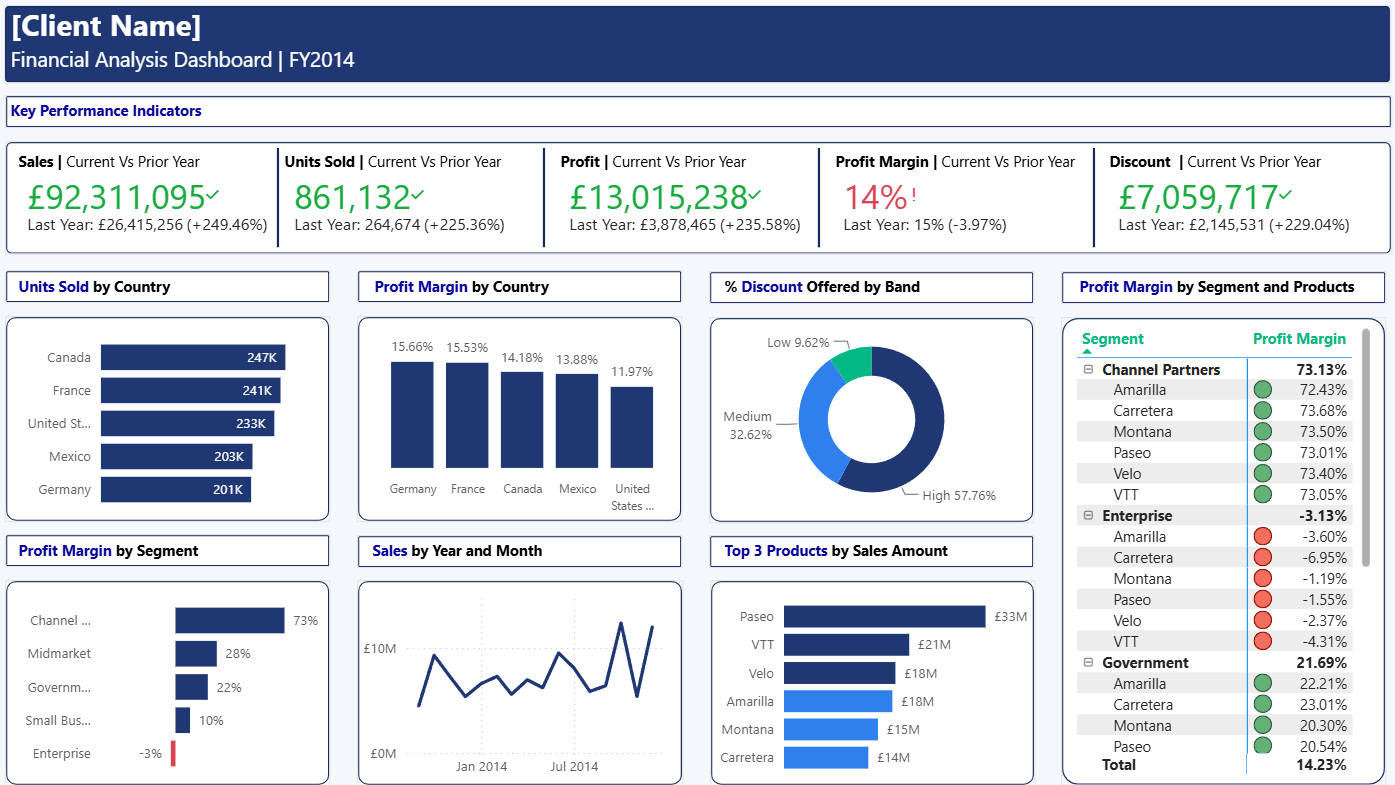

The dashboard page shown, as its layout file describes it:
{"tool":"powerbi","page":{"name":"Page 1","canvas":[1280,720],"ordinal":0},"visuals":[{"type":"shape","box":[9.7,11.7,1257.6,71],"z":0},{"type":"shape","box":[10.7,93.4,1257.6,30.2],"z":1000},{"type":"shape","box":[10.7,135.2,1257.6,103.1],"z":2000},{"type":"shape","box":[10.8,251.9,295,30.2],"z":3000},{"type":"shape","box":[10.8,293.6,295,186.7],"z":4000},{"type":"shape","box":[330.1,252.2,295,30.2],"z":5000},{"type":"shape","box":[330.1,293.8,295,186.7],"z":6000},{"type":"shape","box":[649.6,253.2,295,30.2],"z":7000},{"type":"shape","box":[649.6,294.4,295,186.7],"z":8000},{"type":"shape","box":[10.8,491.9,295,30.2],"z":9000},{"type":"shape","box":[10.8,533.3,295,186.7],"z":10000},{"type":"shape","box":[330.1,491.9,295,30.2],"z":11000},{"type":"shape","box":[329.7,533,295.7,186.7],"z":12000},{"type":"shape","box":[649.6,492.3,295,30.2],"z":13000},{"type":"shape","box":[649.7,533,294.7,186.7],"z":14000},{"type":"shape","box":[968.8,253.2,295,30.2],"z":15000},{"type":"shape","box":[968.8,294.7,294.7,425],"z":16000},{"type":"textbox","box":[10.7,6,299.6,47.7],"z":17000},{"type":"textbox","box":[10.9,42.6,385.4,39],"z":18000},{"type":"textbox","box":[10.7,93.4,299.6,30.2],"z":19000},{"type":"kpi","fields":{"Indicator":["Analysis.Sales Amount"],"TrendLine":["DateTable.Date.Variation.Date Hierarchy.Year"],"Goal":["Analysis.Sales Amount LY"]},"box":[18.1,156,292,76.2],"z":20000},{"type":"textbox","box":[18.5,140.1,299.6,30.2],"z":21000},{"type":"shape","box":[198.4,141,119.6,90.5],"z":22000},{"type":"kpi","fields":{"TrendLine":["DateTable.Date.Variation.Date Hierarchy.Year"],"Indicator":["Analysis.Units Sold"],"Goal":["Analysis.Units Sold LY"]},"box":[260.3,156,299.2,76.2],"z":23000},{"type":"kpi","fields":{"TrendLine":["DateTable.Date.Variation.Date Hierarchy.Year"],"Goal":["Analysis.Profit LY"],"Indicator":["Analysis.Profit"]},"box":[509.6,156,299.2,76.2],"z":24000},{"type":"kpi","fields":{"Indicator":["Analysis.Profit Margin"],"TrendLine":["DateTable.Date.Variation.Date Hierarchy.Year"],"Goal":["Analysis.Profit Margin LY"]},"box":[758.1,156,300.2,76.2],"z":25000},{"type":"kpi","fields":{"Indicator":["Analysis.Total Discount Amount"],"TrendLine":["DateTable.Date.Variation.Date Hierarchy.Year"],"Goal":["Analysis.Total Discount Amount LY"]},"box":[1007.5,156,255.7,76.2],"z":26000},{"type":"shape","box":[439.6,141,119.6,90.5],"z":27000},{"type":"shape","box":[689.6,141,119.6,90.5],"z":28000},{"type":"shape","box":[938.6,141,119.6,90.5],"z":29000},{"type":"textbox","box":[259.7,140.1,299.6,30.2],"z":30000},{"type":"textbox","box":[509.7,140.1,299.6,30.2],"z":31000},{"type":"textbox","box":[758.7,140.1,299.6,30.2],"z":32000},{"type":"textbox","box":[1007.2,139.9,256.8,30],"z":33000},{"type":"textbox","box":[18.1,253,287.5,30.8],"z":34000},{"type":"textbox","box":[340.7,252.8,299.8,31],"z":35000},{"type":"textbox","box":[658.5,252.8,299.8,31],"z":36000},{"type":"barChart","fields":{"Y":["Analysis.Units Sold"],"Category":["Financials.Country"]},"box":[11,294.8,294.8,185.9],"z":37000},{"type":"columnChart","fields":{"Category":["Financials.Country"],"Y":["Analysis.Profit Margin"]},"box":[329.7,294.8,294.8,185.9],"z":38000},{"type":"donutChart","fields":{"Category":["Financials.Discount Band"],"Y":["Analysis.Total Discount Amount"]},"box":[649.5,294.8,294.8,185.9],"z":39000},{"type":"textbox","box":[18,492.6,299.8,31],"z":40000},{"type":"barChart","fields":{"Y":["Analysis.Profit Margin"],"Category":["Financials.Segment"]},"box":[11,533.6,294.8,186.9],"z":41000},{"type":"lineChart","fields":{"Category":["DateTable.Date.Variation.Date Hierarchy.Year","DateTable.Date.Variation.Date Hierarchy.Month"],"Y":["Analysis.Sales Amount"]},"box":[329.7,533.6,294.8,186.9],"z":42000},{"type":"textbox","box":[338.7,492.6,299.8,31],"z":43000},{"type":"textbox","box":[658.5,492.6,299.8,31],"z":44000},{"type":"barChart","fields":{"Y":["Analysis.Sales Amount"],"Category":["Financials.Product"]},"box":[649.5,533.6,294.8,186.9],"z":45000},{"type":"pivotTable","fields":{"Rows":["Financials.Segment","Financials.Product"],"Values":["Analysis.Profit Margin"]},"box":[977.5,299.2,276.6,415.3],"z":46000},{"type":"textbox","box":[980.2,252.8,299.8,31],"z":47000}]}

Visuals, with their boxes in screenshot pixels (x1, y1, x2, y2), scaled from the page's 1280x720 canvas onto the 1395x785 screenshot:
shape: (x1=11, y1=13, x2=1381, y2=90)
shape: (x1=12, y1=102, x2=1382, y2=135)
shape: (x1=12, y1=147, x2=1382, y2=260)
shape: (x1=12, y1=275, x2=333, y2=308)
shape: (x1=12, y1=320, x2=333, y2=524)
shape: (x1=360, y1=275, x2=681, y2=308)
shape: (x1=360, y1=320, x2=681, y2=524)
shape: (x1=708, y1=276, x2=1029, y2=309)
shape: (x1=708, y1=321, x2=1029, y2=525)
shape: (x1=12, y1=536, x2=333, y2=569)
shape: (x1=12, y1=581, x2=333, y2=784)
shape: (x1=360, y1=536, x2=681, y2=569)
shape: (x1=359, y1=581, x2=682, y2=784)
shape: (x1=708, y1=537, x2=1029, y2=570)
shape: (x1=708, y1=581, x2=1029, y2=784)
shape: (x1=1056, y1=276, x2=1377, y2=309)
shape: (x1=1056, y1=321, x2=1377, y2=784)
textbox: (x1=12, y1=7, x2=338, y2=59)
textbox: (x1=12, y1=46, x2=432, y2=89)
textbox: (x1=12, y1=102, x2=338, y2=135)
kpi - Analysis.Sales Amount x DateTable.Date.Variation.Date Hierarchy.Year: (x1=20, y1=170, x2=338, y2=253)
textbox: (x1=20, y1=153, x2=347, y2=186)
shape: (x1=216, y1=154, x2=347, y2=252)
kpi - DateTable.Date.Variation.Date Hierarchy.Year x Analysis.Units Sold: (x1=284, y1=170, x2=610, y2=253)
kpi - DateTable.Date.Variation.Date Hierarchy.Year x Analysis.Profit LY: (x1=555, y1=170, x2=881, y2=253)
kpi - Analysis.Profit Margin x DateTable.Date.Variation.Date Hierarchy.Year: (x1=826, y1=170, x2=1153, y2=253)
kpi - Analysis.Total Discount Amount x DateTable.Date.Variation.Date Hierarchy.Year: (x1=1098, y1=170, x2=1377, y2=253)
shape: (x1=479, y1=154, x2=609, y2=252)
shape: (x1=752, y1=154, x2=882, y2=252)
shape: (x1=1023, y1=154, x2=1153, y2=252)
textbox: (x1=283, y1=153, x2=610, y2=186)
textbox: (x1=555, y1=153, x2=882, y2=186)
textbox: (x1=827, y1=153, x2=1153, y2=186)
textbox: (x1=1098, y1=153, x2=1378, y2=185)
textbox: (x1=20, y1=276, x2=333, y2=309)
textbox: (x1=371, y1=276, x2=698, y2=309)
textbox: (x1=718, y1=276, x2=1044, y2=309)
barChart - Analysis.Units Sold x Financials.Country: (x1=12, y1=321, x2=333, y2=524)
columnChart - Financials.Country x Analysis.Profit Margin: (x1=359, y1=321, x2=681, y2=524)
donutChart - Financials.Discount Band x Analysis.Total Discount Amount: (x1=708, y1=321, x2=1029, y2=524)
textbox: (x1=20, y1=537, x2=346, y2=571)
barChart - Analysis.Profit Margin x Financials.Segment: (x1=12, y1=582, x2=333, y2=784)
lineChart - DateTable.Date.Variation.Date Hierarchy.Year x DateTable.Date.Variation.Date Hierarchy.Month: (x1=359, y1=582, x2=681, y2=784)
textbox: (x1=369, y1=537, x2=696, y2=571)
textbox: (x1=718, y1=537, x2=1044, y2=571)
barChart - Analysis.Sales Amount x Financials.Product: (x1=708, y1=582, x2=1029, y2=784)
pivotTable - Financials.Segment x Financials.Product: (x1=1065, y1=326, x2=1367, y2=779)
textbox: (x1=1068, y1=276, x2=1394, y2=309)
